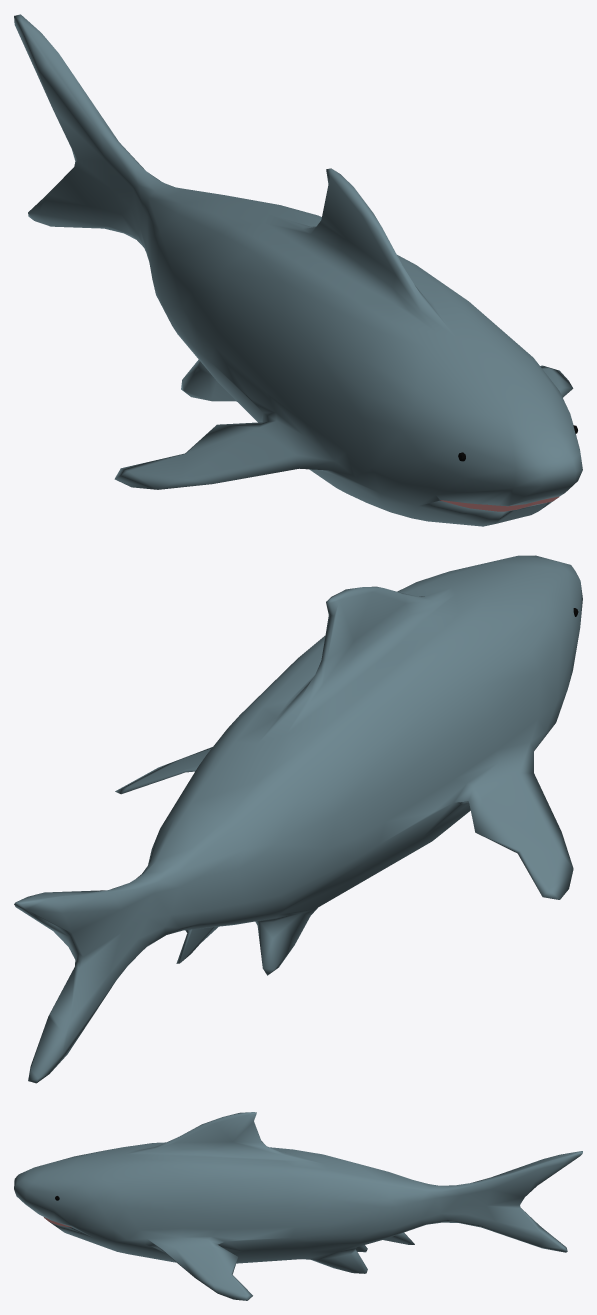
File: Shark.fbx
3 renders of one model, top to bottom at view 1: azimuth 30°, elevation 25°; view 2: azimuth 150°, elevation 25°; view 3: azimuth 270°, elevation 25°, orthographic. The views are drawn at different scales.
Parts seen in each view (by area): view 1: SharkBod; view 2: SharkBod; view 3: SharkBod.
Boxes of the visible parts, x1,y1,x2,y2 form: SharkBod: (14, 14, 582, 526); SharkBod: (14, 555, 582, 1083); SharkBod: (14, 1112, 582, 1300).
Bounding box in the file's own units: 851 × 526 × 1794.
